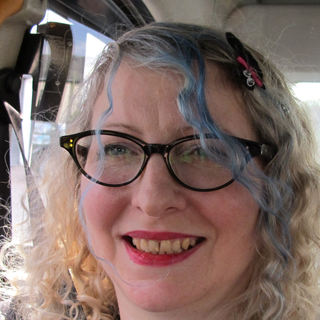eye: (98, 139, 140, 162)
